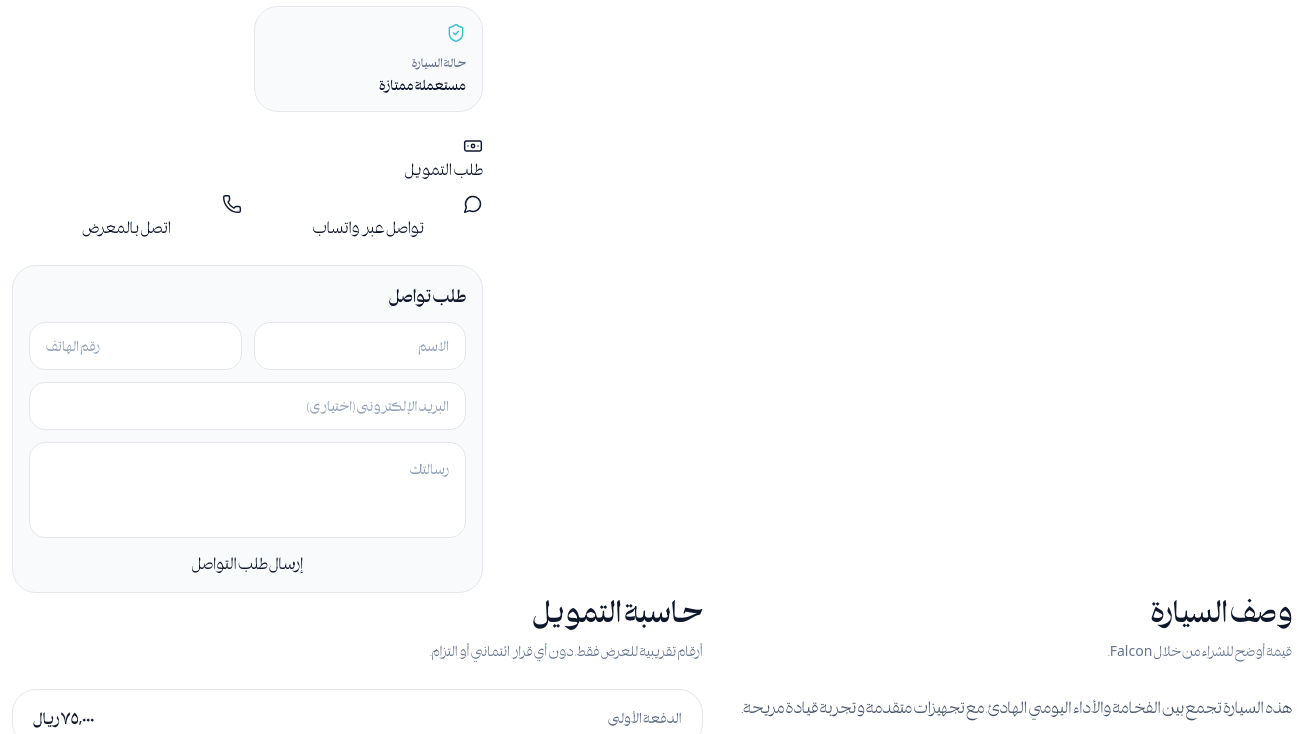
Test case: Falcon page states › shows lead form success state
The image size is (1304, 734).
(page scrolled)
Expected: the form "طلب تواصل" is shown, [12, 265, 483, 593]
In the field with placeholder "الاسم": (360, 346) [254, 322, 466, 370], type "عميل مهتم"
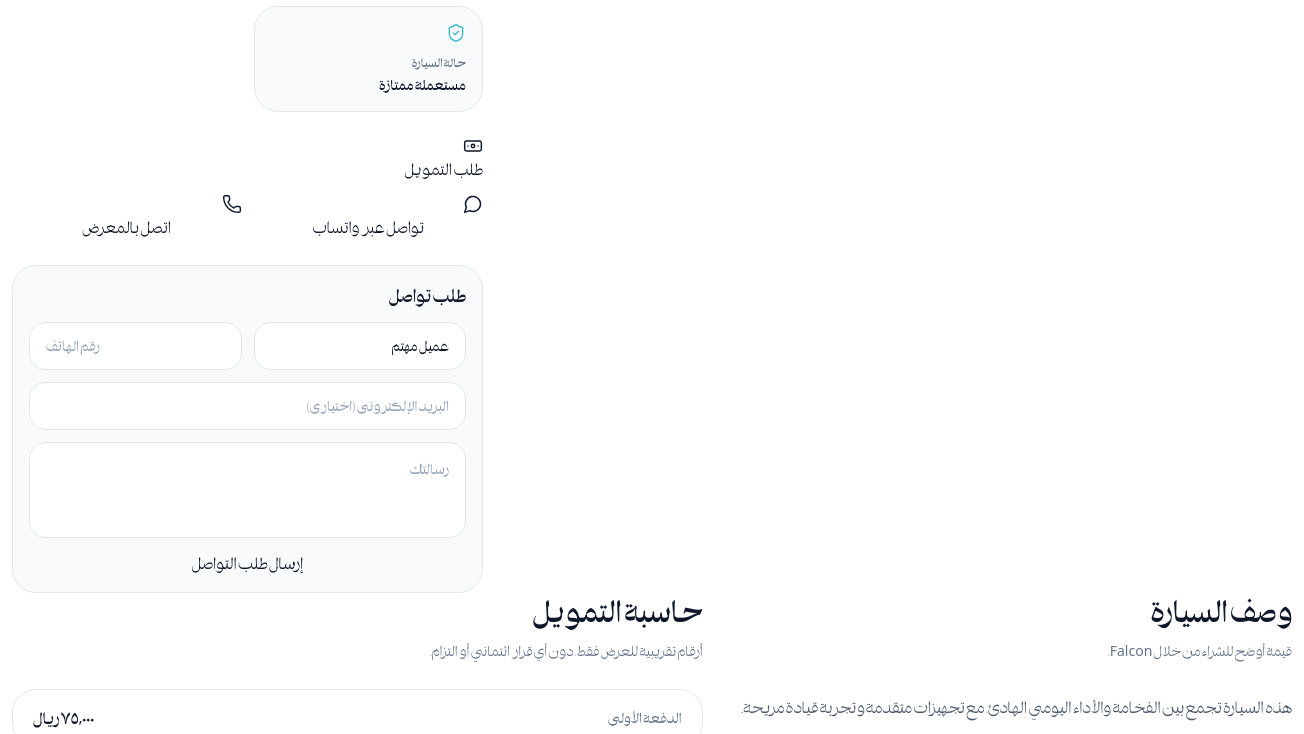
In the field with placeholder "رقم الهاتف": (135, 346) [29, 322, 242, 370], type "966500000000"
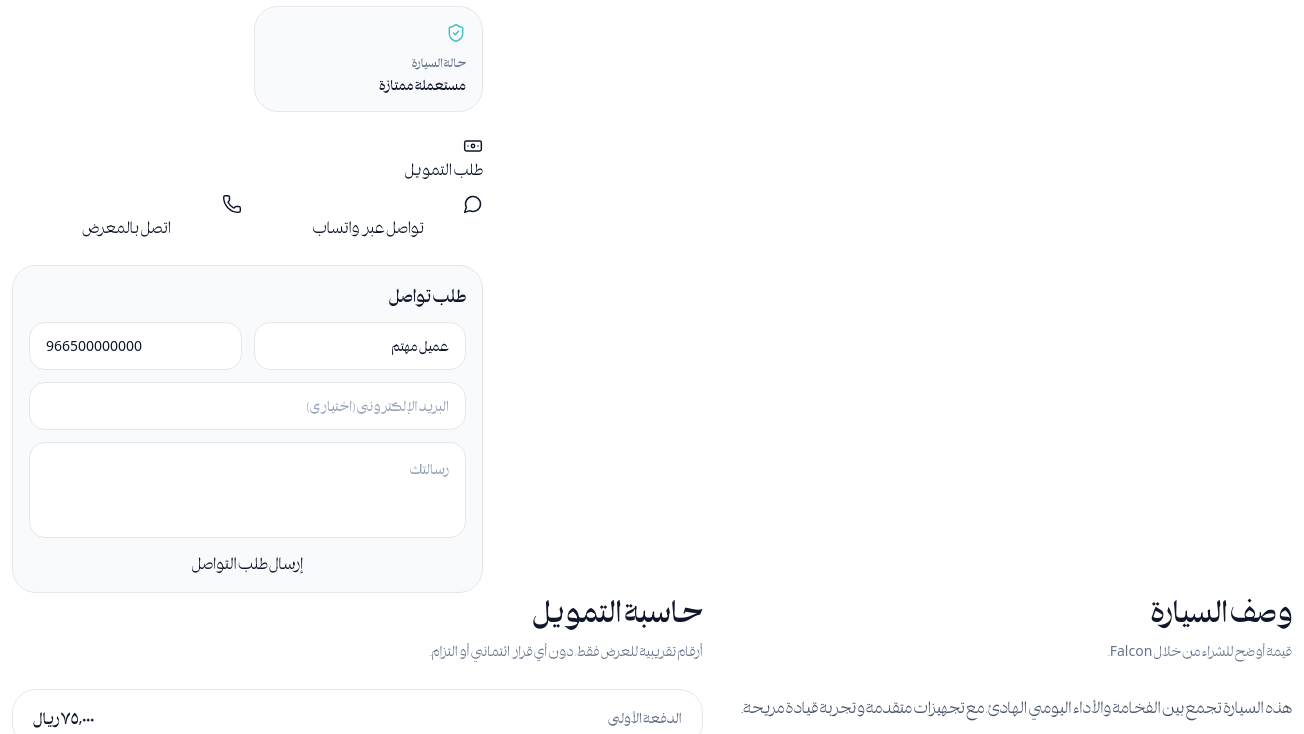
Submit the form "طلب تواصل", box [12, 265, 483, 593]
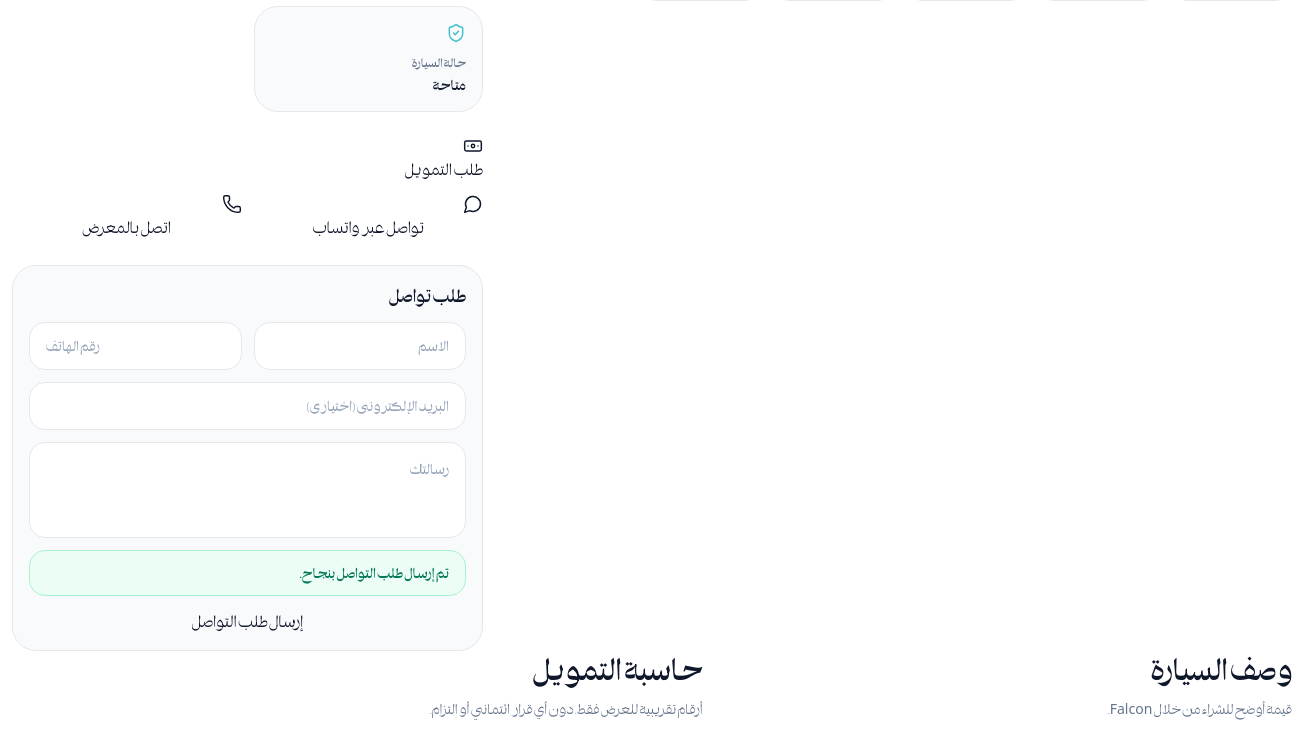
Now the text "تم إرسال طلب التواصل بنجاح." is shown, box [29, 550, 466, 596]
